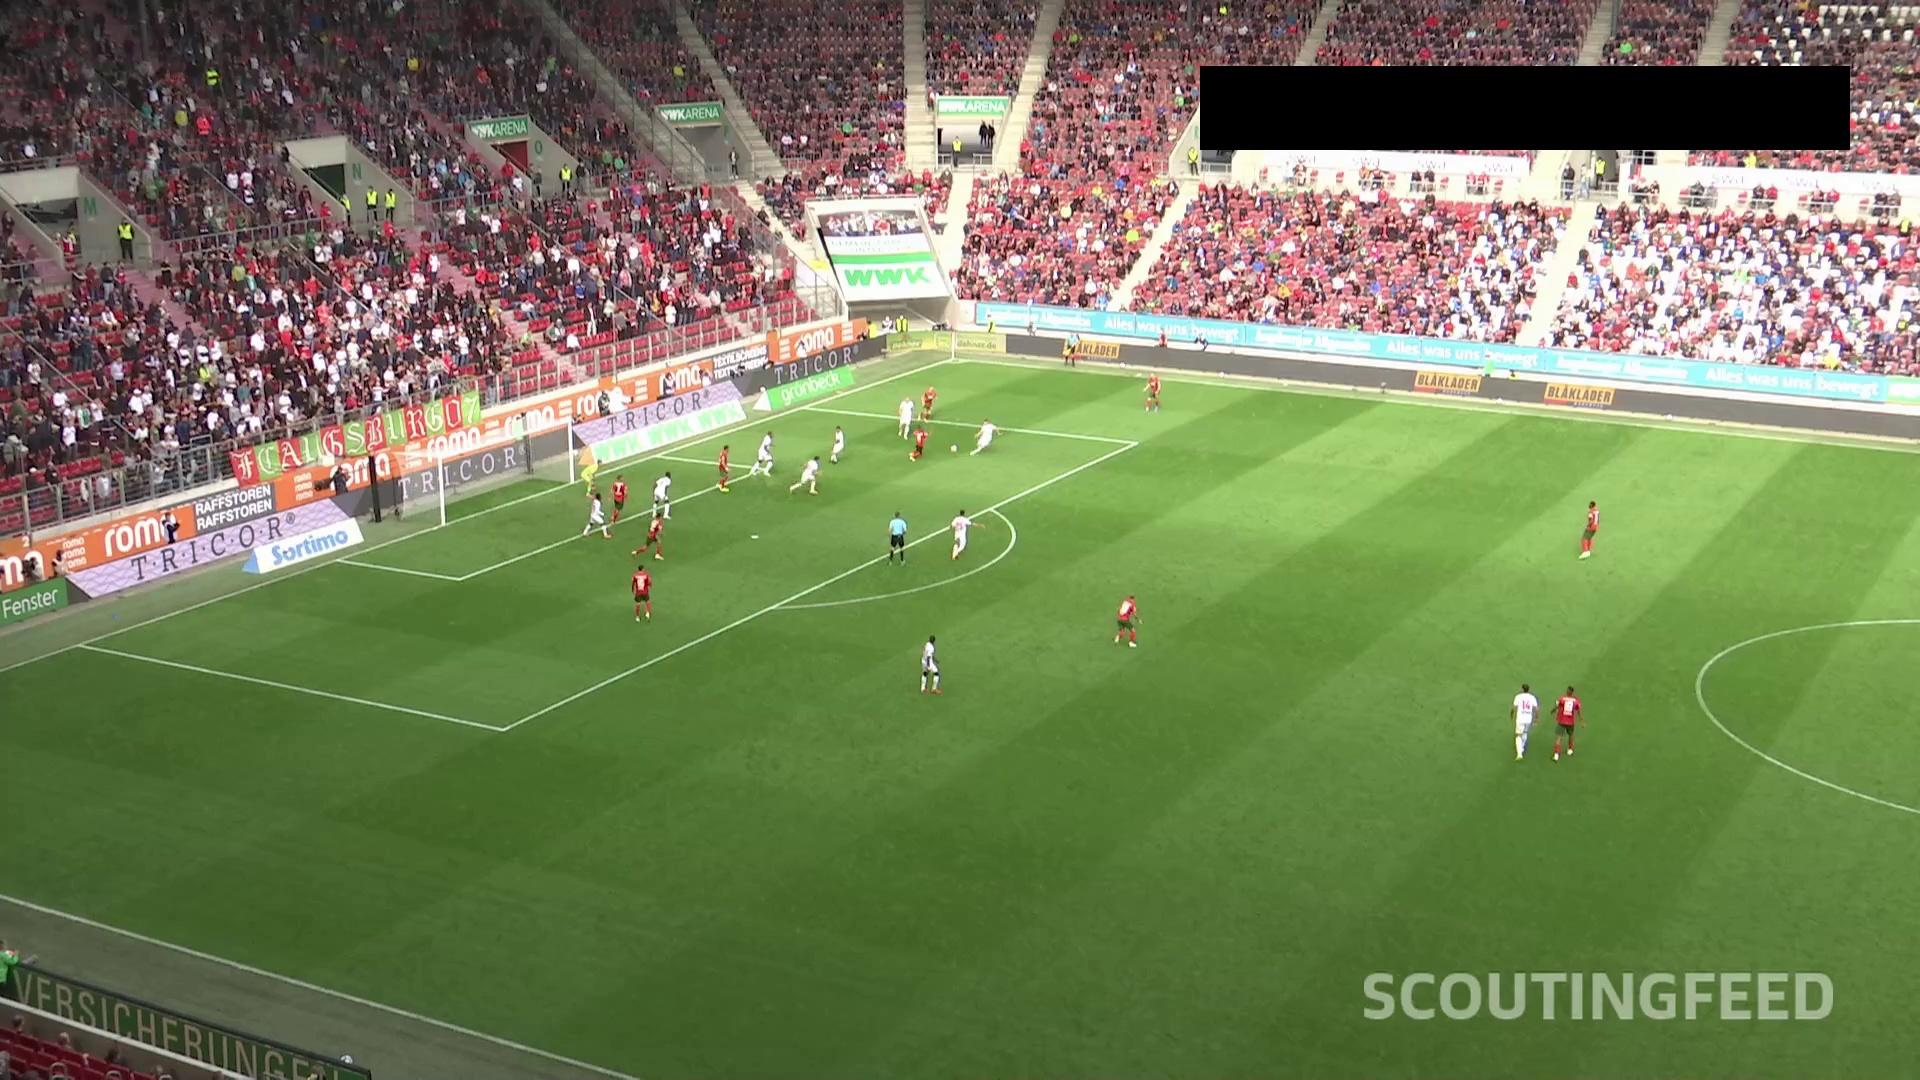Location-of-ball: (949, 438, 964, 454)
